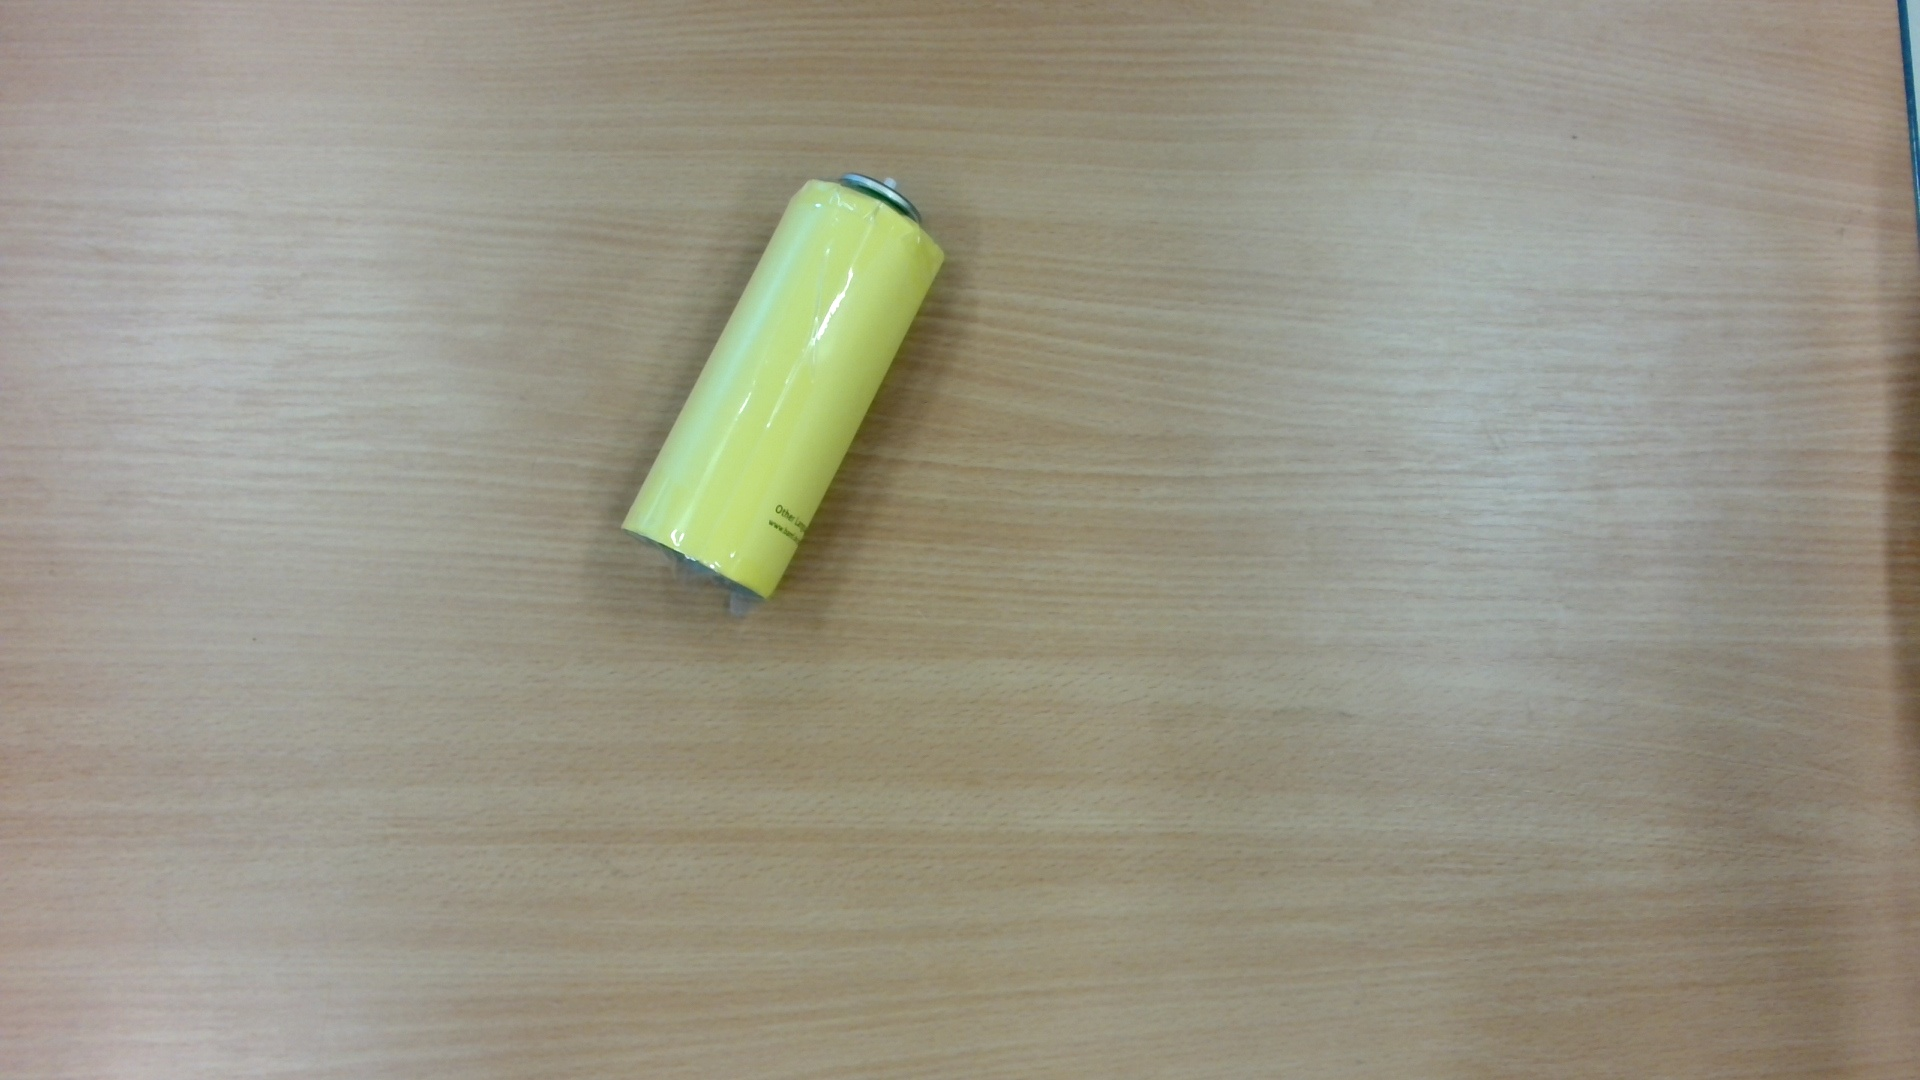Cylinder: (612, 154, 968, 640)
